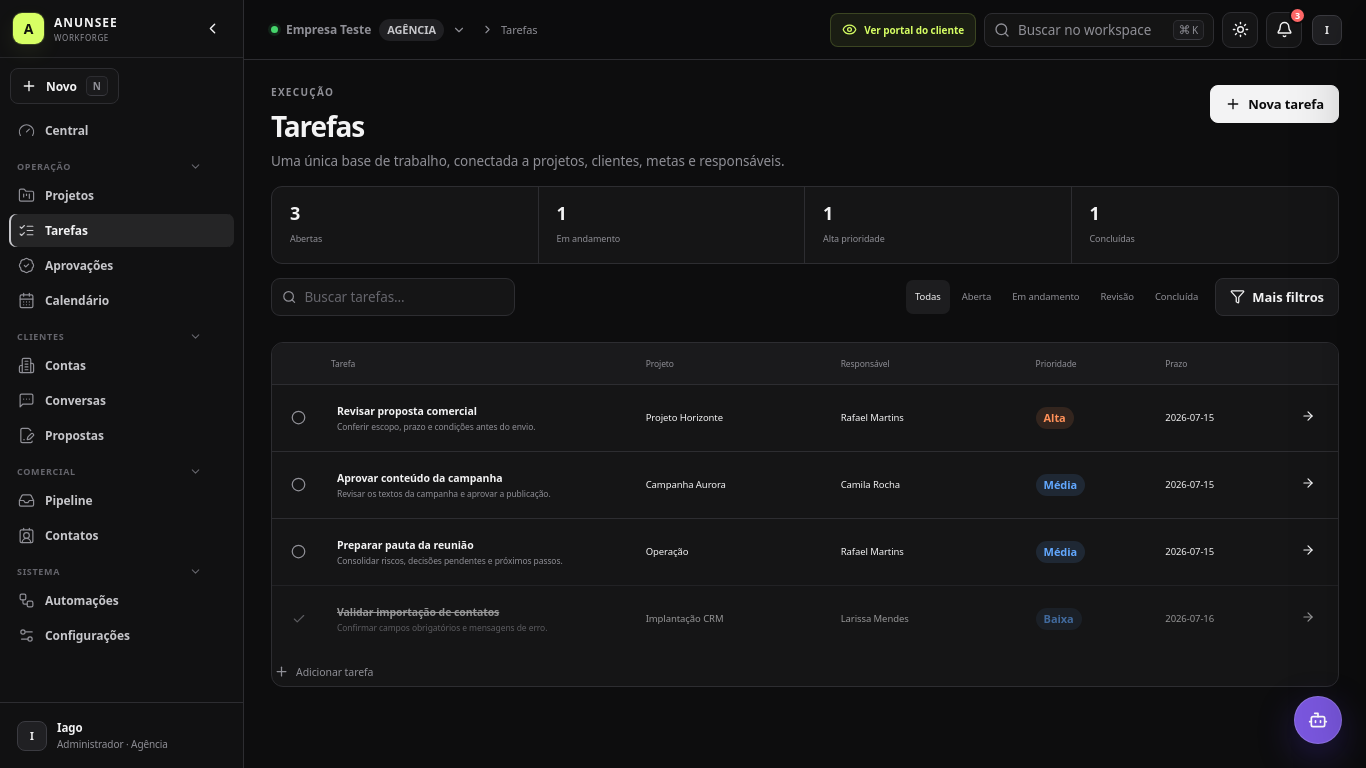
core interactions › creates a task through the task form and persists it
The width and height of the screenshot is (1366, 768).
Click the button "Nova tarefa".
click(1275, 104)  # box x1=1210 y1=85 x2=1339 y2=123
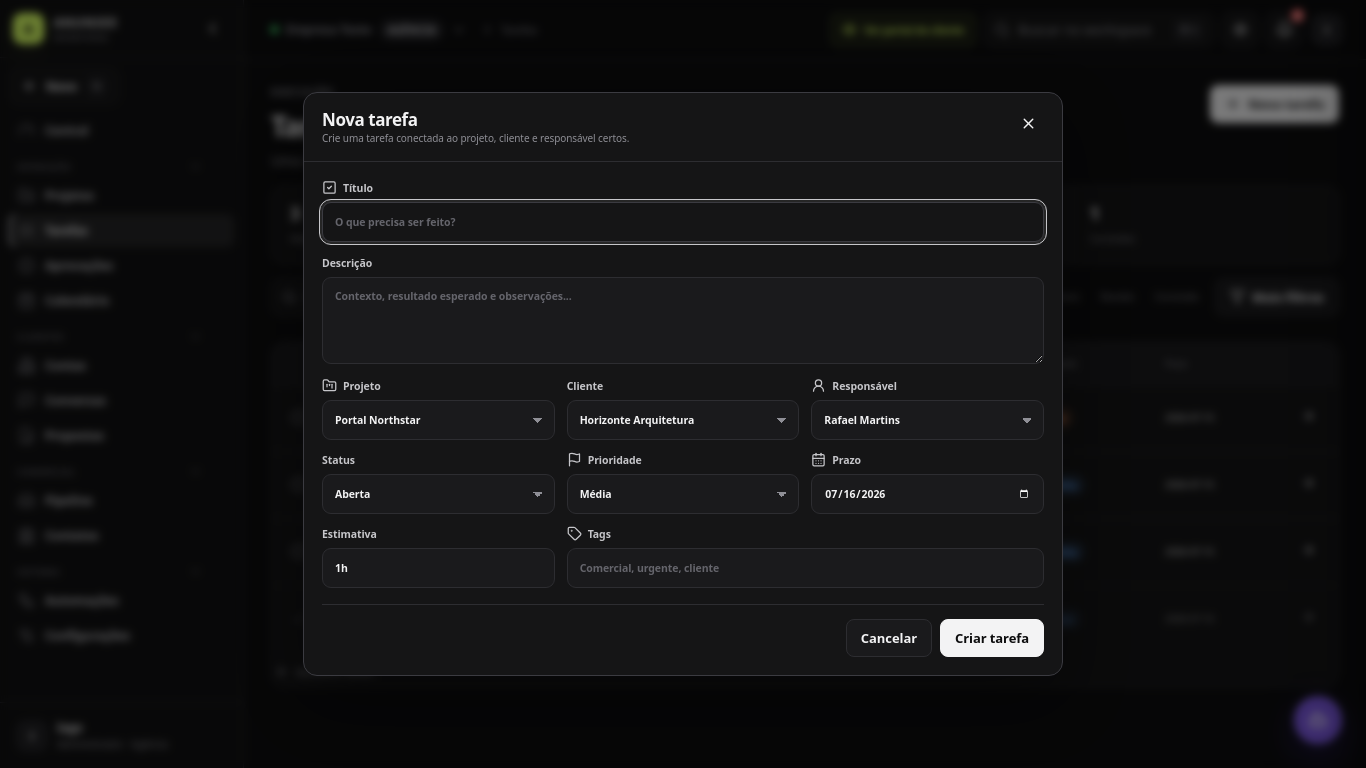
Type "Testar formulário funcional" into the field with placeholder "O que precisa ser feito?".
click(683, 222); type("Testar formulário funcional")  # box x1=322 y1=202 x2=1044 y2=242
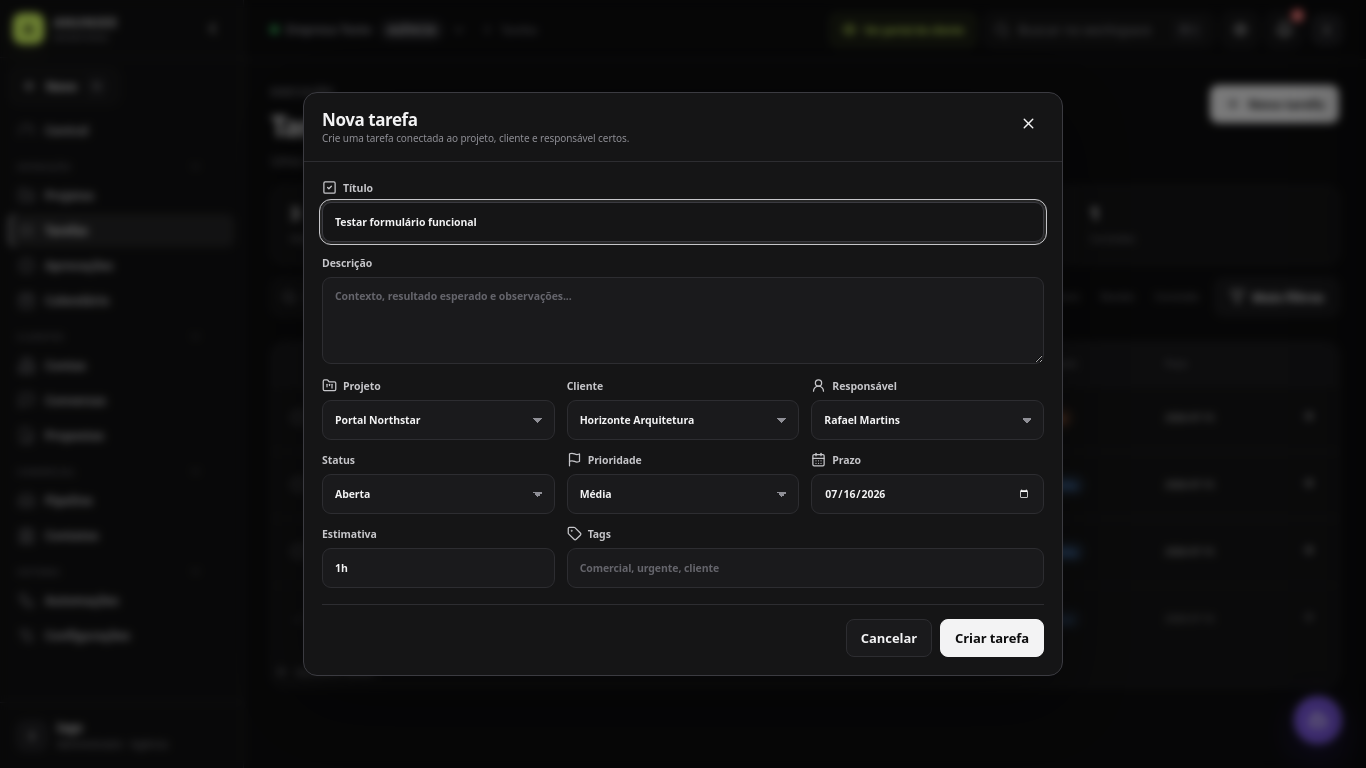
Click the button "Criar tarefa".
click(992, 638)  # box x1=940 y1=619 x2=1044 y2=657
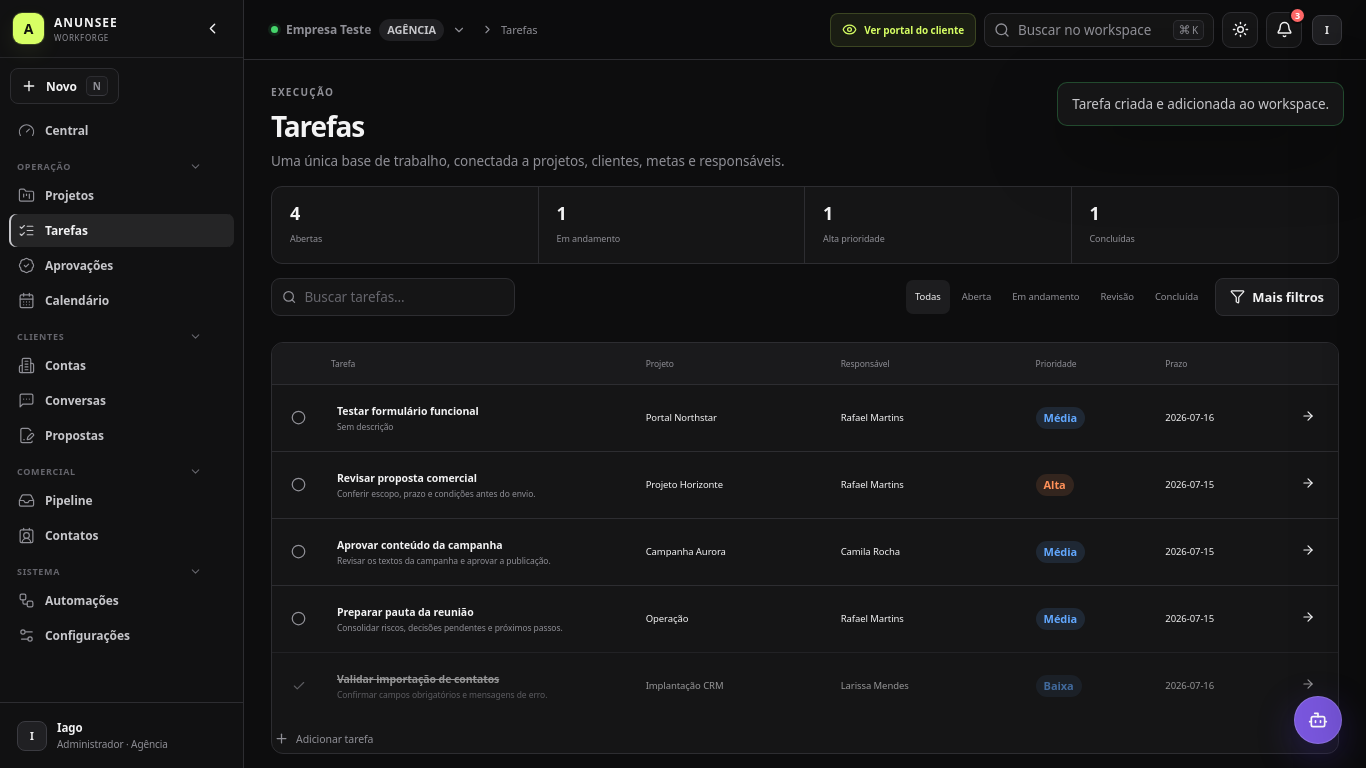
Expected: the text "Testar formulário funcional" is shown, x1=337 y1=404 x2=479 y2=418
